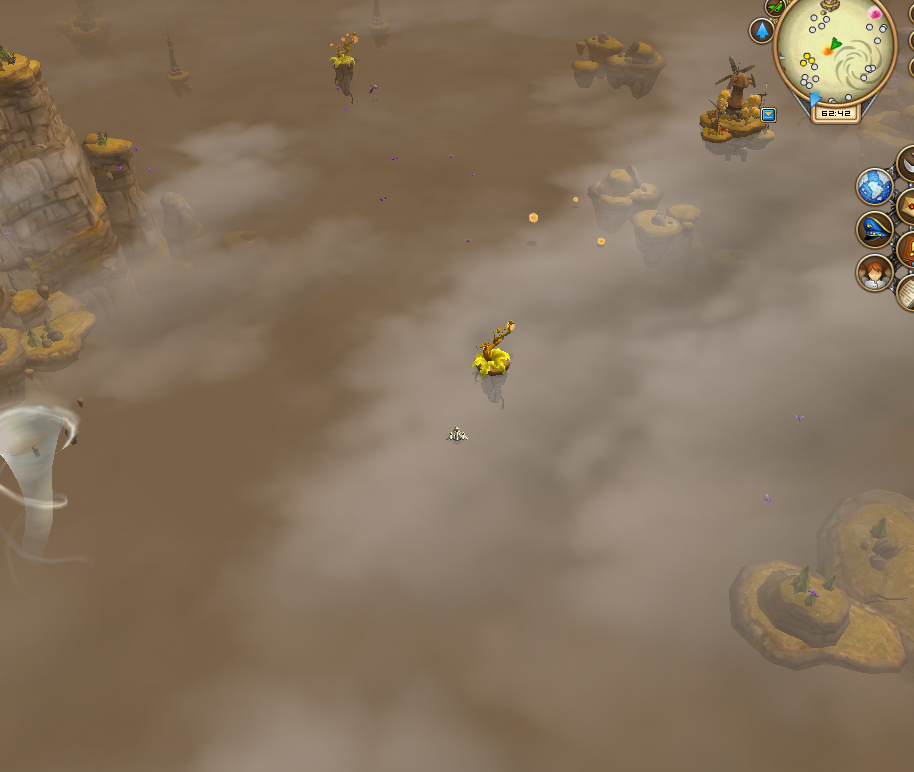dandelion-full: (463, 310, 524, 396), (320, 27, 365, 84)
fluff: (520, 201, 544, 232), (569, 190, 583, 210), (591, 233, 608, 248)
